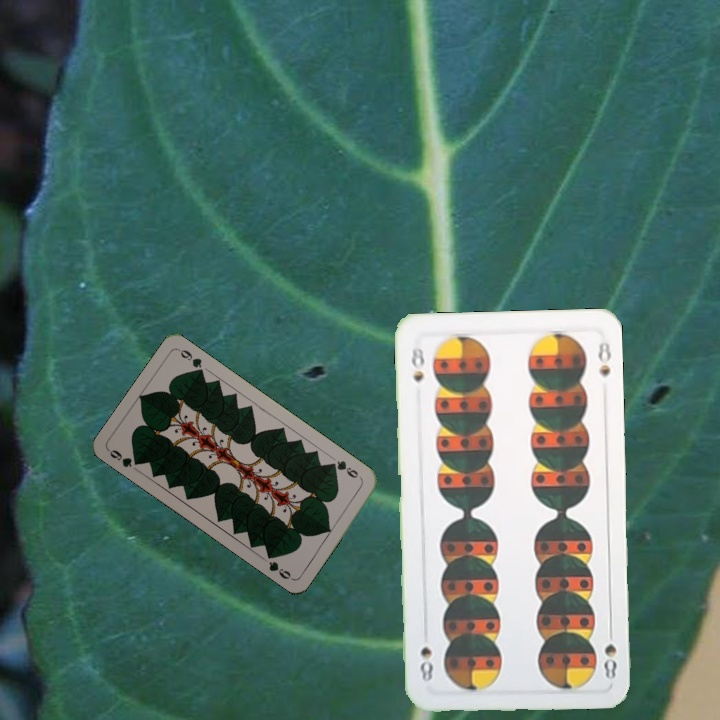G9: (326, 456, 365, 482), (104, 445, 144, 470)
S8: (600, 623, 620, 682), (407, 343, 427, 385)
